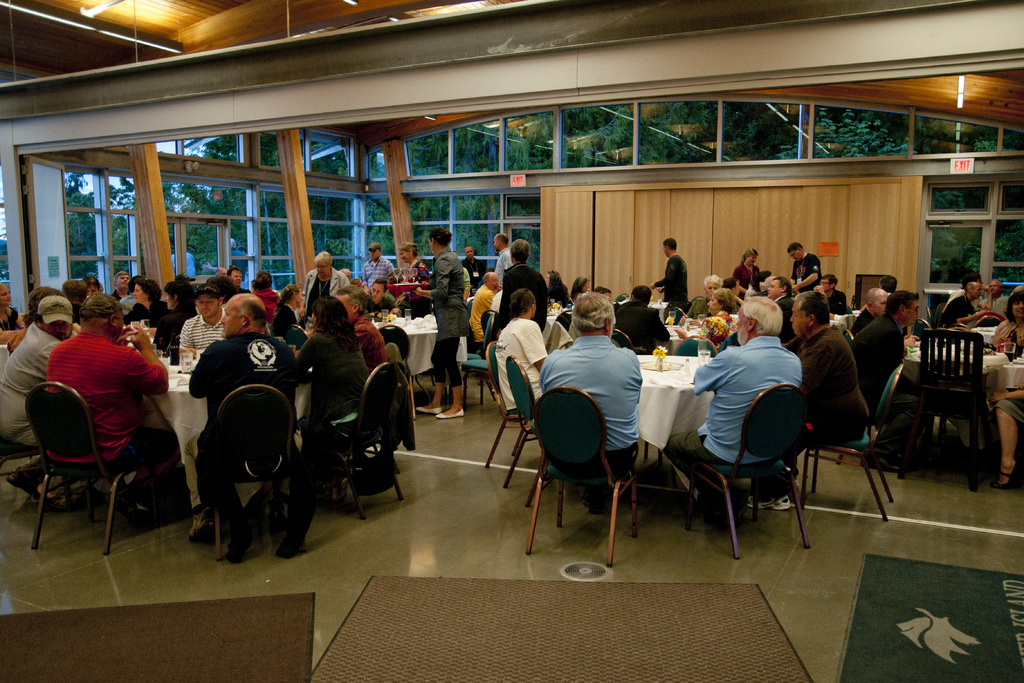Chair: (17, 379, 172, 561), (684, 381, 812, 561), (524, 384, 643, 568), (897, 313, 1007, 500), (206, 383, 306, 573), (798, 366, 909, 528), (314, 363, 415, 518), (500, 360, 571, 506), (486, 344, 542, 474), (0, 450, 76, 514), (453, 310, 499, 406), (381, 323, 417, 423), (672, 335, 712, 360), (842, 325, 856, 350)
